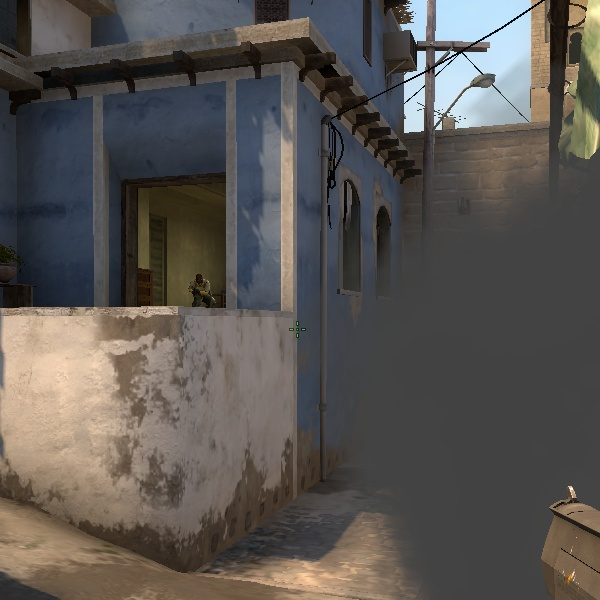t_body: (184, 271, 216, 306)
